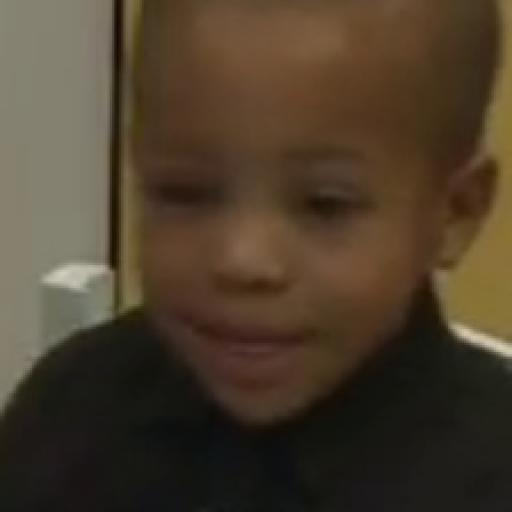Autism: (118, 10, 512, 423)
